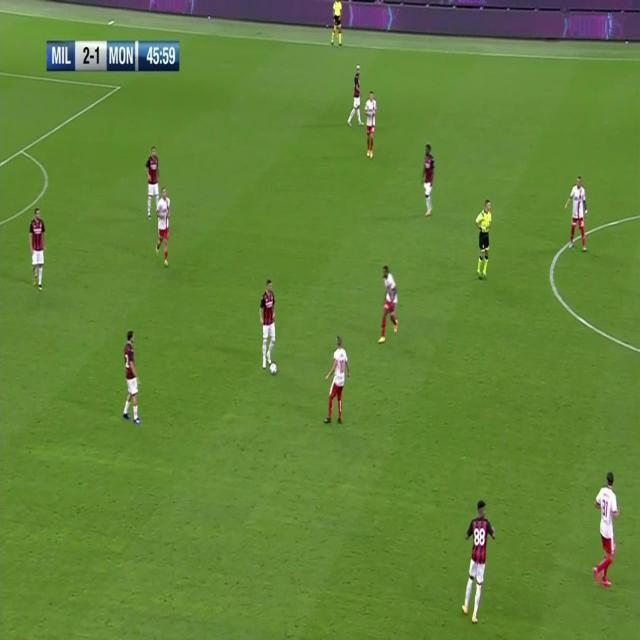ball: (269, 361, 278, 376)
player: (461, 492, 497, 625), (591, 470, 620, 592), (323, 332, 351, 427), (120, 328, 142, 426), (565, 170, 589, 252), (258, 274, 278, 370), (378, 263, 402, 343), (28, 206, 48, 292), (473, 195, 493, 281), (154, 187, 172, 270), (143, 144, 161, 221), (421, 142, 436, 219), (346, 63, 363, 127), (363, 88, 378, 160), (329, 0, 344, 48)
